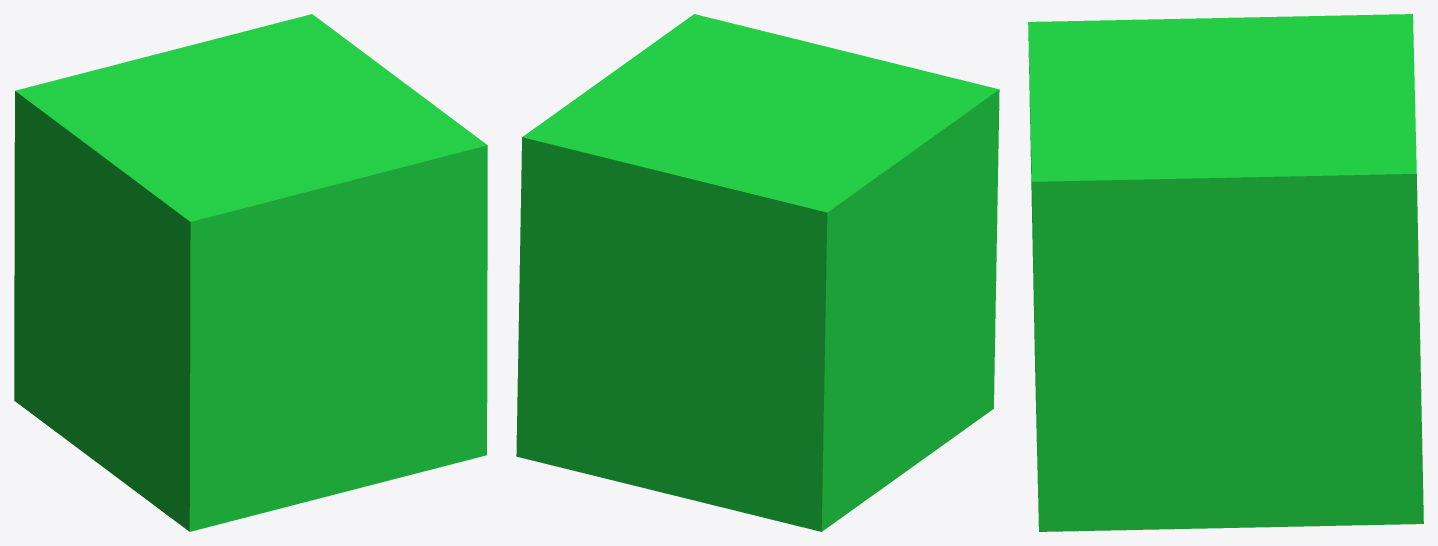
The model's file is blender_ani.glb.
3 views of the same model, side by side, from view 1: azimuth 30°, elevation 25°; view 2: azimuth 150°, elevation 25°; view 3: azimuth 270°, elevation 25° (orthographic). The views are drawn at different scales.
Parts seen in each view (by area): view 1: Cube; view 2: Cube; view 3: Cube.
Boxes of the visible parts, x1=… form: Cube: x1=14, y1=14, x2=487, y2=531; Cube: x1=516, y1=14, x2=999, y2=531; Cube: x1=1028, y1=14, x2=1423, y2=531.
Bounding box in the file's own units: 1.05 × 1.06 × 1.06.
